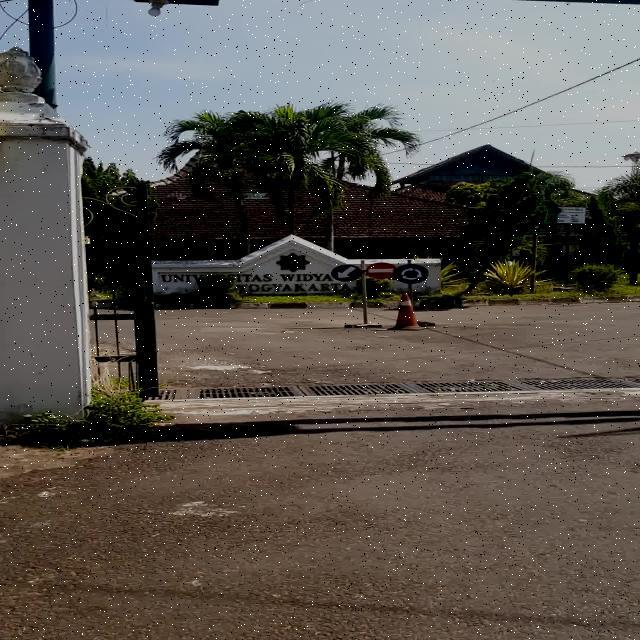Ikuti Bundaran: (393, 264, 429, 284)
Lajur Kiri: (331, 264, 362, 282)
